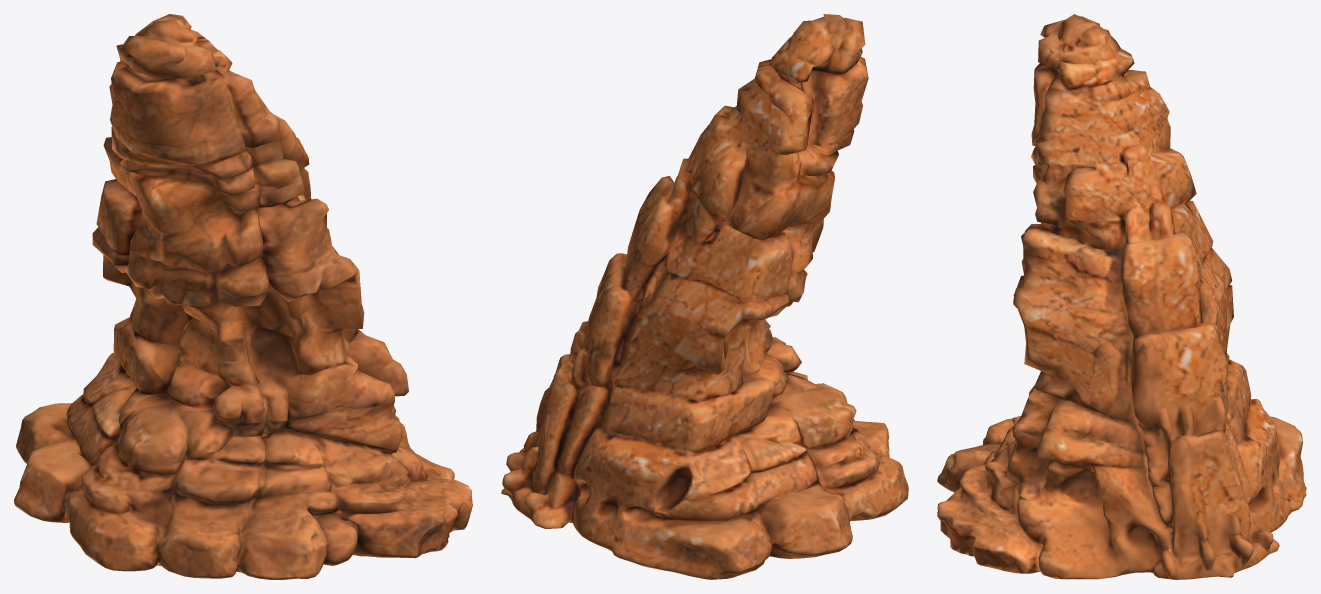
Rendered from spire_5.gltf.
3 renders of one model, left to right at view 1: azimuth 30°, elevation 25°; view 2: azimuth 150°, elevation 25°; view 3: azimuth 270°, elevation 25°, orthographic. The views are drawn at different scales.
Parts seen in each view (by area): view 1: spire_5; view 2: spire_5; view 3: spire_5.
Boxes of the visible parts, box(x1,y1,x2,y2) form: spire_5: box(14, 14, 472, 579); spire_5: box(501, 14, 908, 579); spire_5: box(937, 14, 1306, 579).
Size of the model in its own units: 36.27 by 48.95 by 36.64.
1 material, 1 textured.
